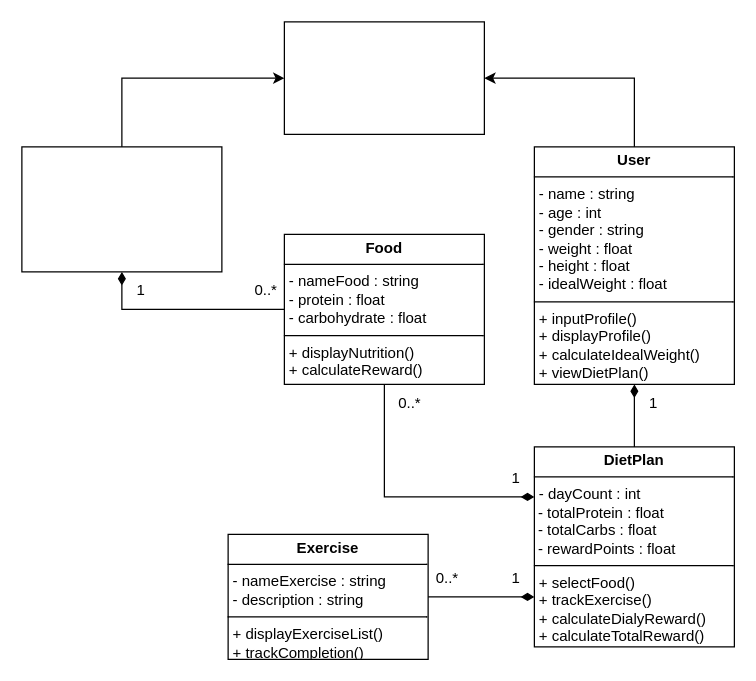
This 756x681 diagram has some shape labels left out. The shapes that lost their labels are listed below. From the top down, each one's centre as x and y in pixels, then its label:
At point (383, 77): "Login - username : string - password : string + login()".
At point (121, 209): "Admin - nameAdmin : string + addFood() + updateFood() + deleteFood()".
